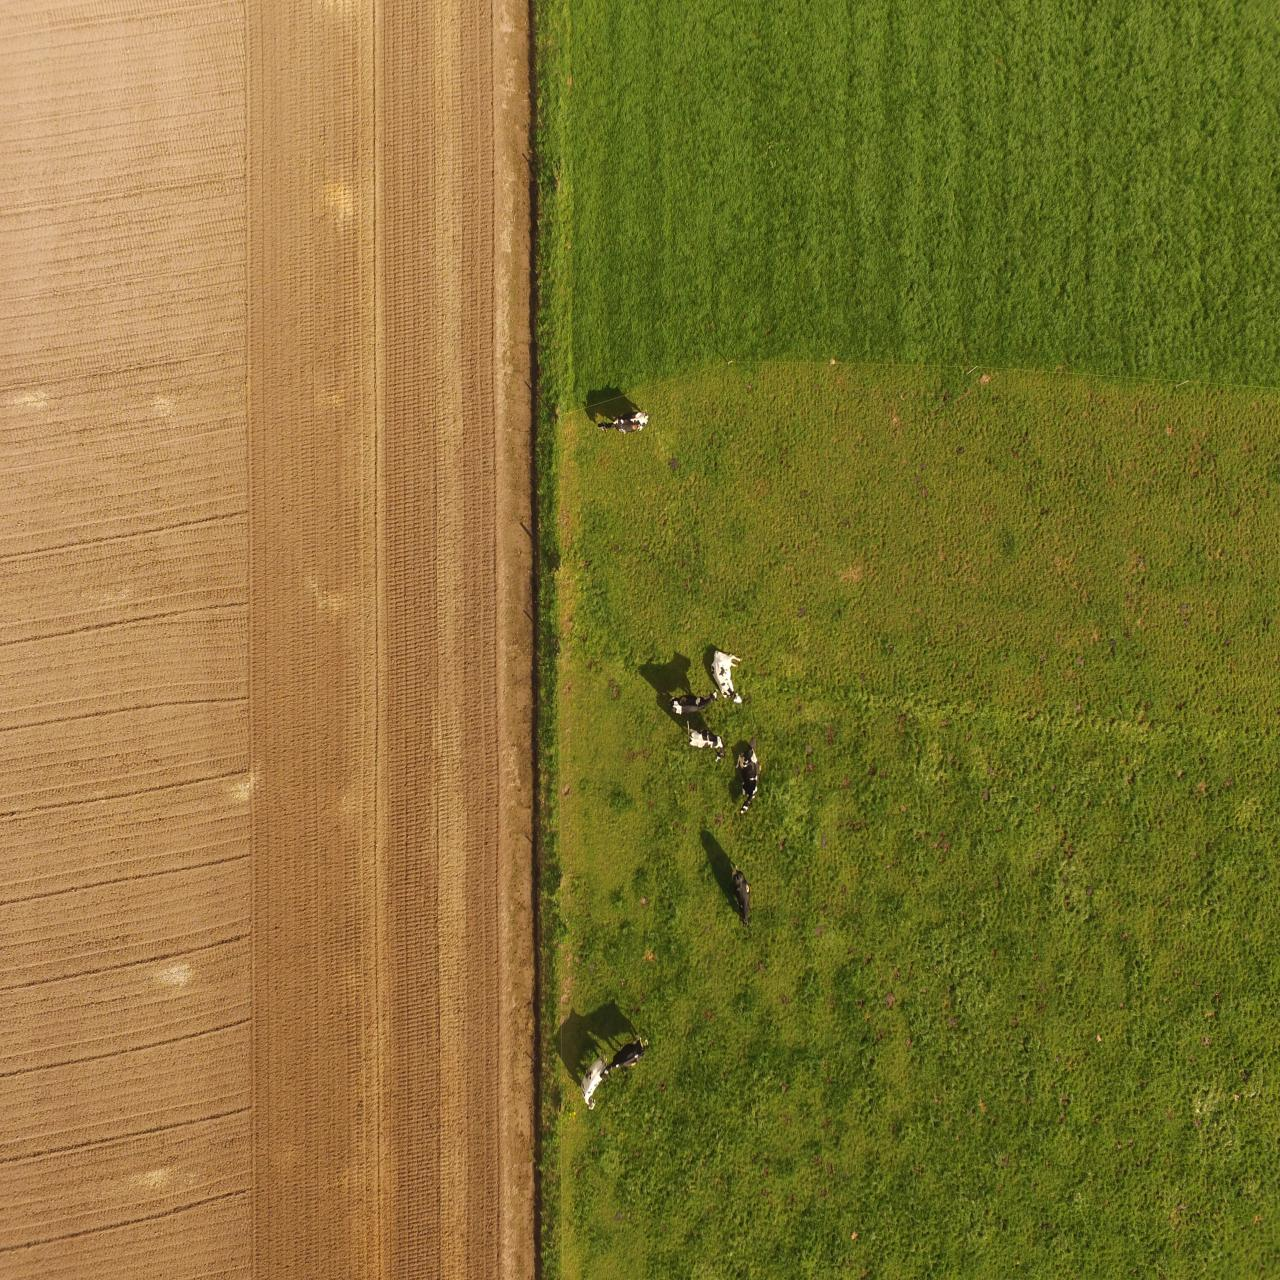cow: (733, 744, 763, 816), (604, 1030, 649, 1076), (710, 648, 743, 703), (579, 1051, 608, 1110), (686, 722, 724, 763), (667, 687, 719, 716), (729, 863, 753, 926), (598, 409, 648, 435)
